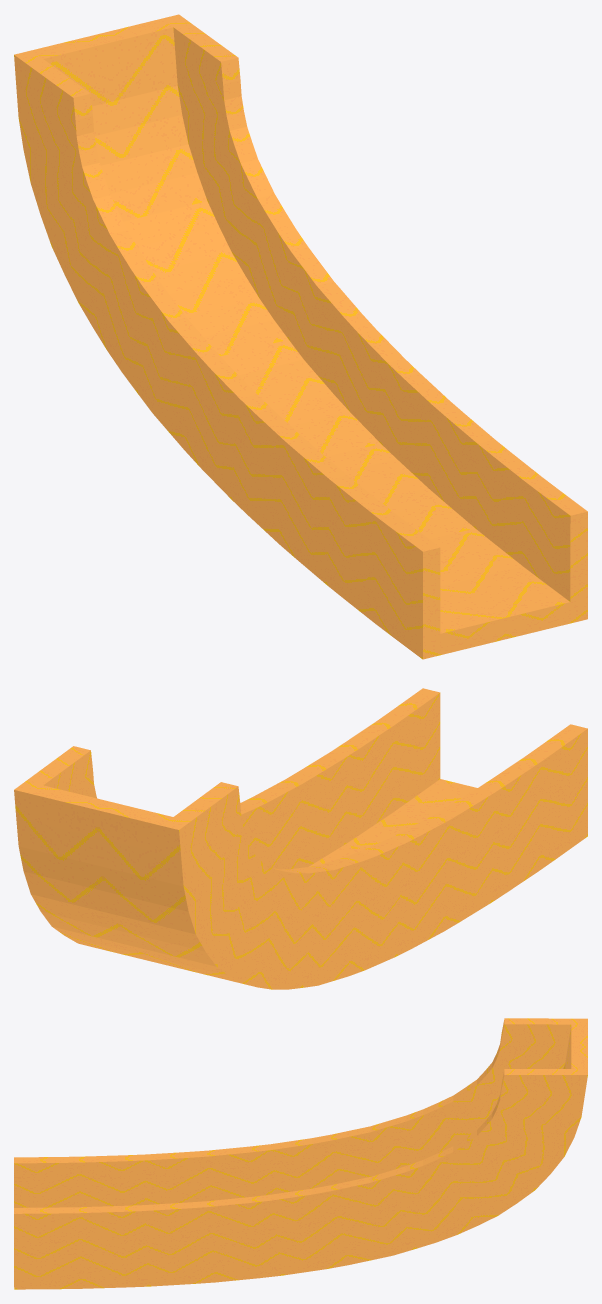
Rendered from rampCurvedL.glb.
3 views of the same model, one above another, from view 1: azimuth 30°, elevation 25°; view 2: azimuth 150°, elevation 25°; view 3: azimuth 270°, elevation 25° (orthographic). The views are drawn at different scales.
Visible parts, largest first — view 1: rampCurvedL; view 2: rampCurvedL; view 3: rampCurvedL.
Boxes of the visible parts, left/top/right/bottom form: rampCurvedL: left=14, top=14, right=587, bottom=659; rampCurvedL: left=14, top=688, right=587, bottom=989; rampCurvedL: left=14, top=1018, right=587, bottom=1289.
Size of the model in its own units: 0.5 by 0.8856 by 2.15.
1 material, 1 textured.
